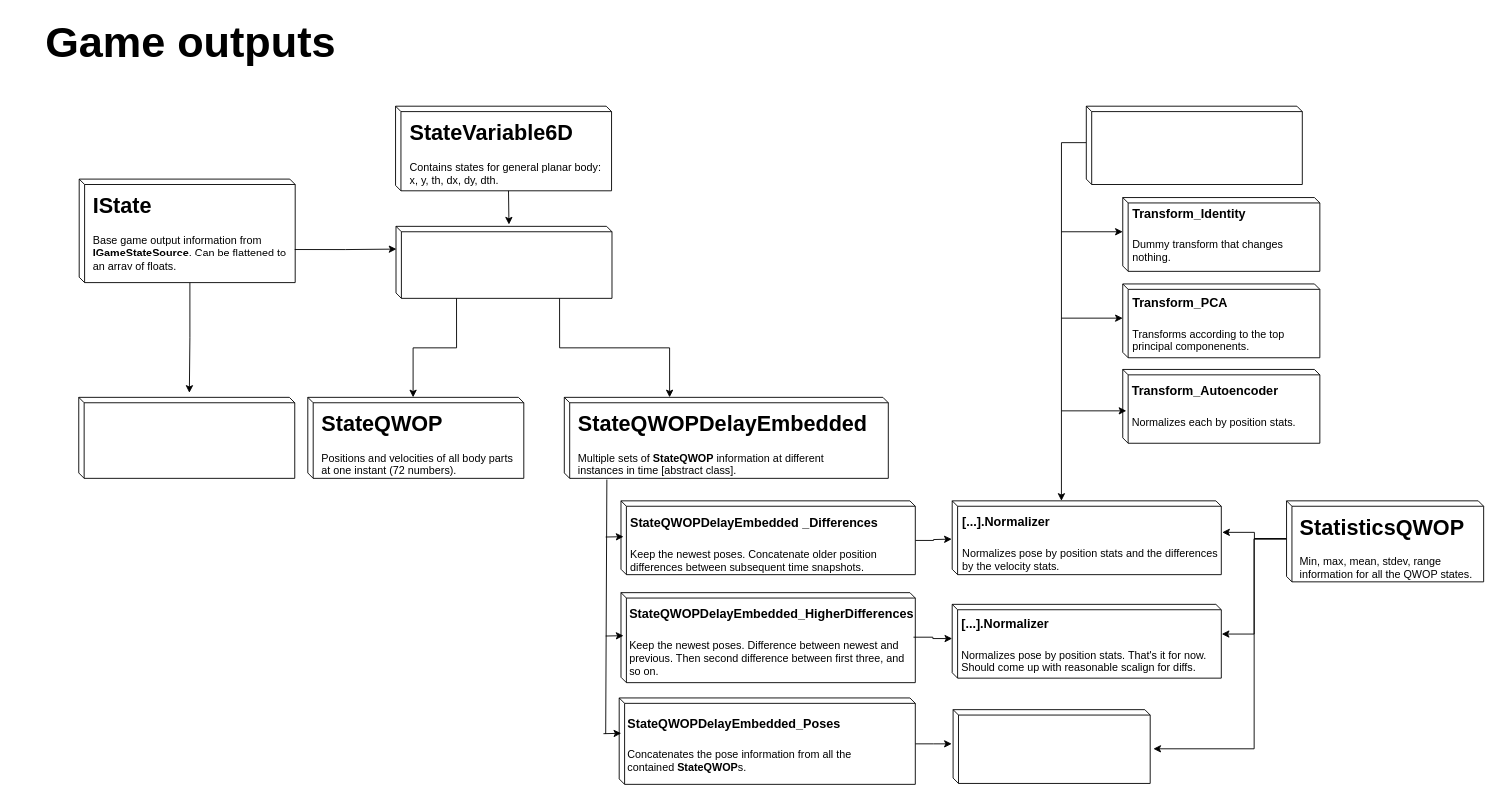
Image size: 1499x802. Some labels were removed from this diagram. Here are the shapes that lost their labels. From the top down, the centre of each, then its label:
At (1193,144): "ITransform Transforms an IState in some way.".
At (503,261): "IStateQWOP Can get StateVariable6D s by body part.".
At (186,437): "StateCartPole Position, velocity, angle, tip velocity (4 numbers).".
At (1051,746): "[...].Normalizer Normalizes each by position stats.".
